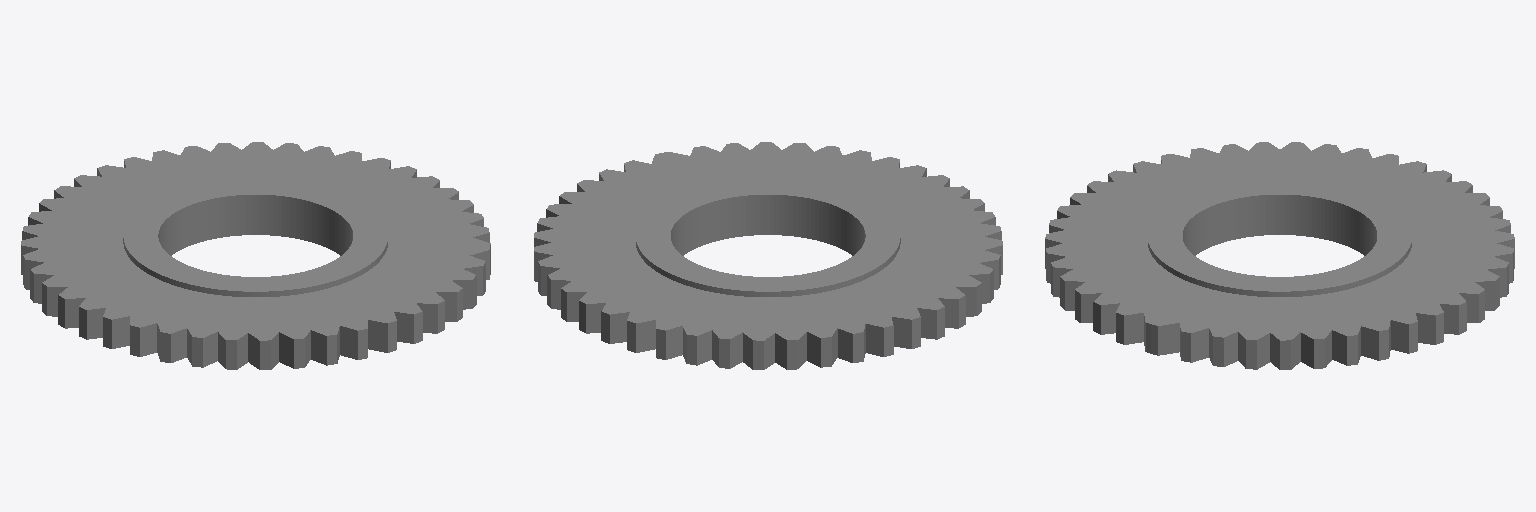
Rendered from Cog.obj.
3 renders of one model, left to right at view 1: azimuth 30°, elevation 25°; view 2: azimuth 150°, elevation 25°; view 3: azimuth 270°, elevation 25°, orthographic.
Parts seen in each view (by area): view 1: Cylinder001, Cylinder002; view 2: Cylinder001, Cylinder002; view 3: Cylinder001, Cylinder002.
Boxes of the visible parts, x1,y1,x2,y2 form: Cylinder001: [21, 142, 490, 369]; Cylinder002: [123, 180, 387, 296]; Cylinder001: [534, 142, 1002, 369]; Cylinder002: [636, 180, 900, 296]; Cylinder001: [1045, 142, 1514, 369]; Cylinder002: [1148, 180, 1411, 296].
Bounding box in the file's own units: 91.24 × 8.68 × 91.27.